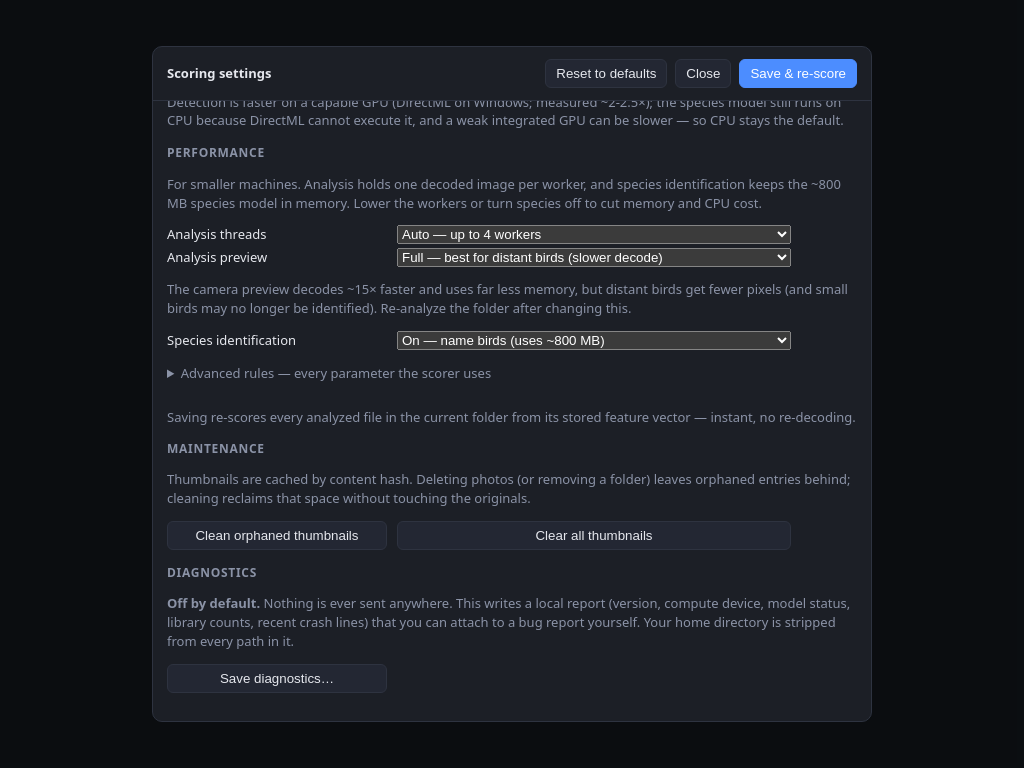
Test: Settings diagnostics › falls back to the default location with no native dialog
(page scrolled)
Click the button "Save diagnostics…". click: click(277, 678)
box: [167,664,387,693]
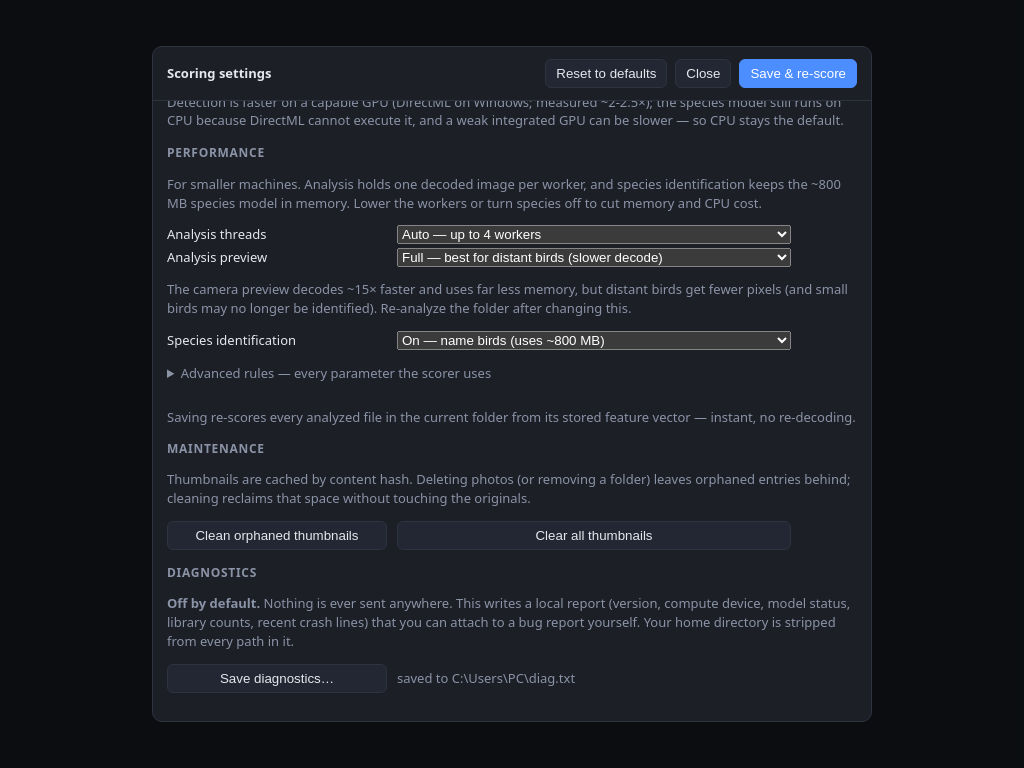
Expected: the text "saved to C:\\Users\\PC\\diag.txt" is shown, [397,669,575,687]
